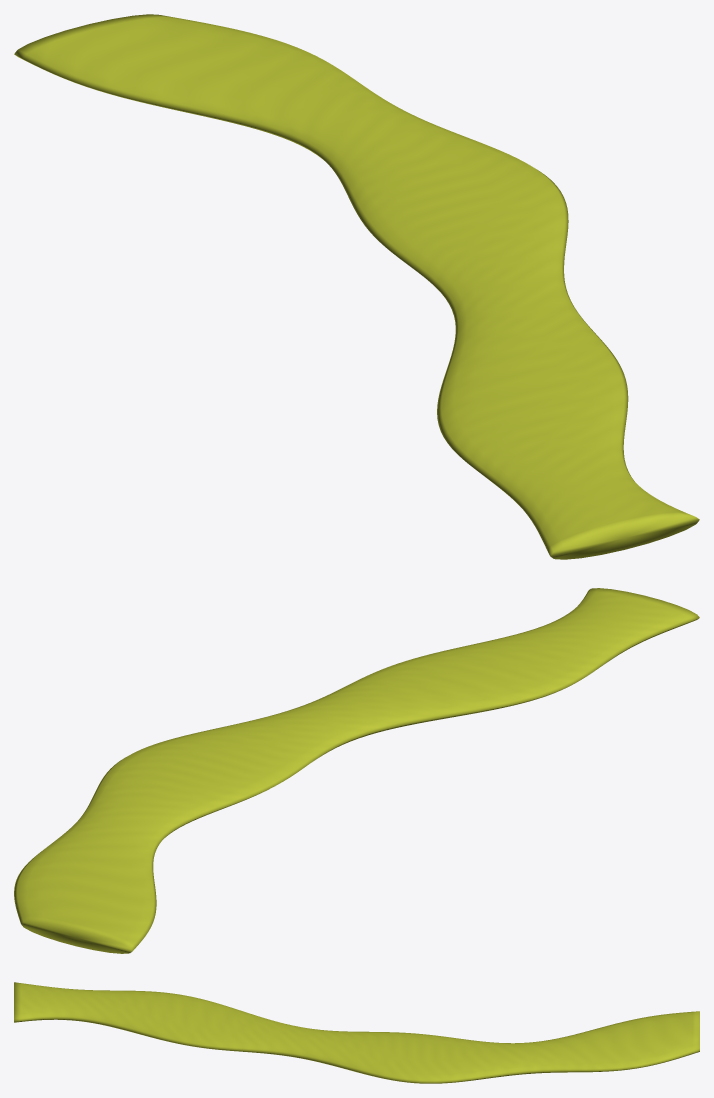
The model's file is syrup-stream.glb.
3 views of the same model, one above another, from view 1: azimuth 30°, elevation 25°; view 2: azimuth 150°, elevation 25°; view 3: azimuth 270°, elevation 25° (orthographic). The views are drawn at different scales.
Parts seen in each view (by area): view 1: Winding rounded syrup stream; view 2: Winding rounded syrup stream; view 3: Winding rounded syrup stream.
Part boxes in pixels (left/top/right/bottom): Winding rounded syrup stream: left=14, top=14, right=699, bottom=559; Winding rounded syrup stream: left=14, top=588, right=699, bottom=953; Winding rounded syrup stream: left=14, top=982, right=699, bottom=1083.
Bounding box in the file's own units: 4.13 × 0.24 × 12.
